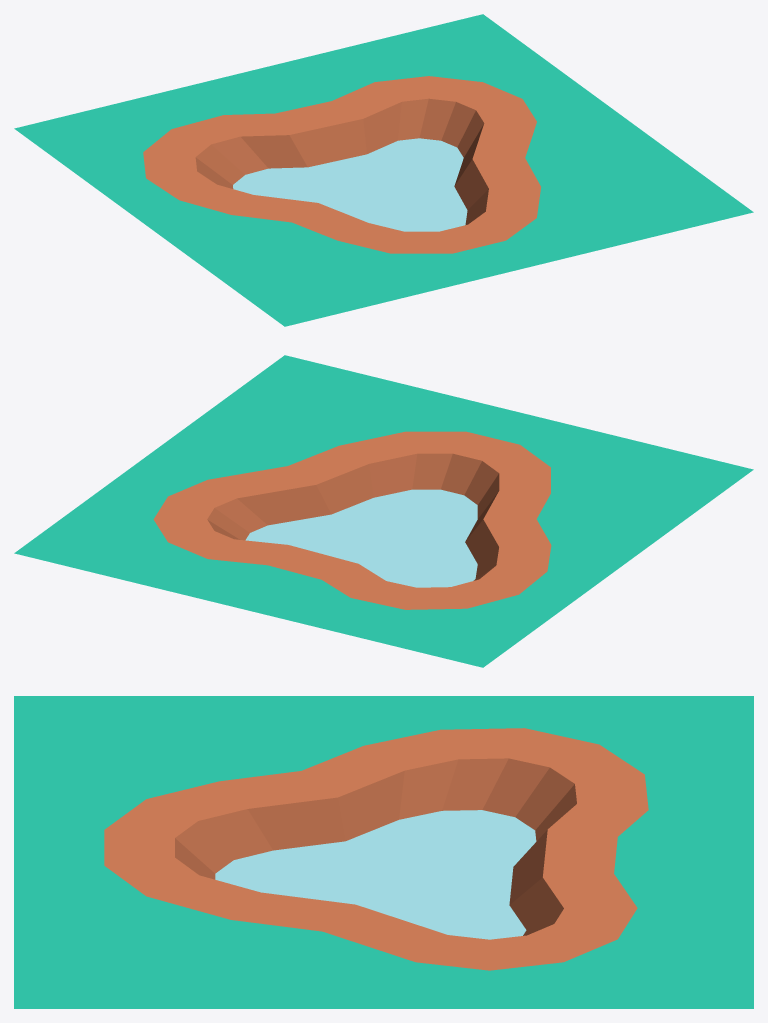
File: ground_riverTile.glb
3 views of the same model, one above another, from view 1: azimuth 30°, elevation 25°; view 2: azimuth 150°, elevation 25°; view 3: azimuth 270°, elevation 25° (orthographic). The views are drawn at different scales.
Visible parts, largest first — view 1: ground_riverTile; view 2: ground_riverTile; view 3: ground_riverTile.
Part boxes in pixels (box(x1,y1,x2,y2)): ground_riverTile: box(14, 14, 753, 326); ground_riverTile: box(14, 355, 753, 667); ground_riverTile: box(14, 696, 753, 1008).
Bounding box in the file's own units: 1 × 0.05 × 1.
